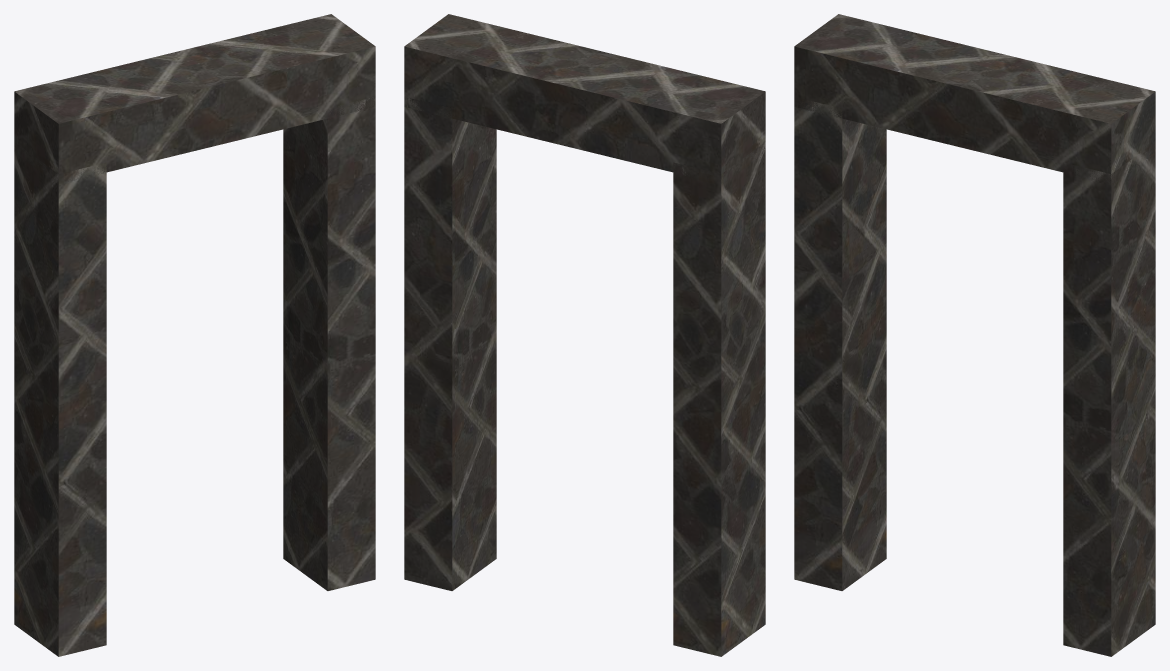
Rendered from door_frame.glb.
The picture shows the model from 3 angles, left to right: view 1: azimuth 30°, elevation 25°; view 2: azimuth 150°, elevation 25°; view 3: azimuth 330°, elevation 25°; orthographic projection.
Visible parts, largest first — view 1: door_frame; view 2: door_frame; view 3: door_frame.
Boxes of the visible parts, <box> form: door_frame: <box>14,14,375,656</box>; door_frame: <box>404,14,765,656</box>; door_frame: <box>794,14,1155,656</box>.
Bounding box in the file's own units: 1.65 × 2.65 × 0.4.
1 material, 1 textured.
